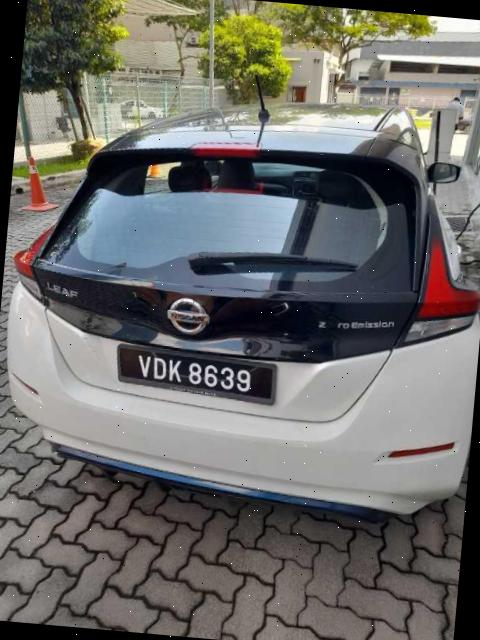License_Plate: (113, 344, 280, 406)
car: (1, 65, 480, 529)
